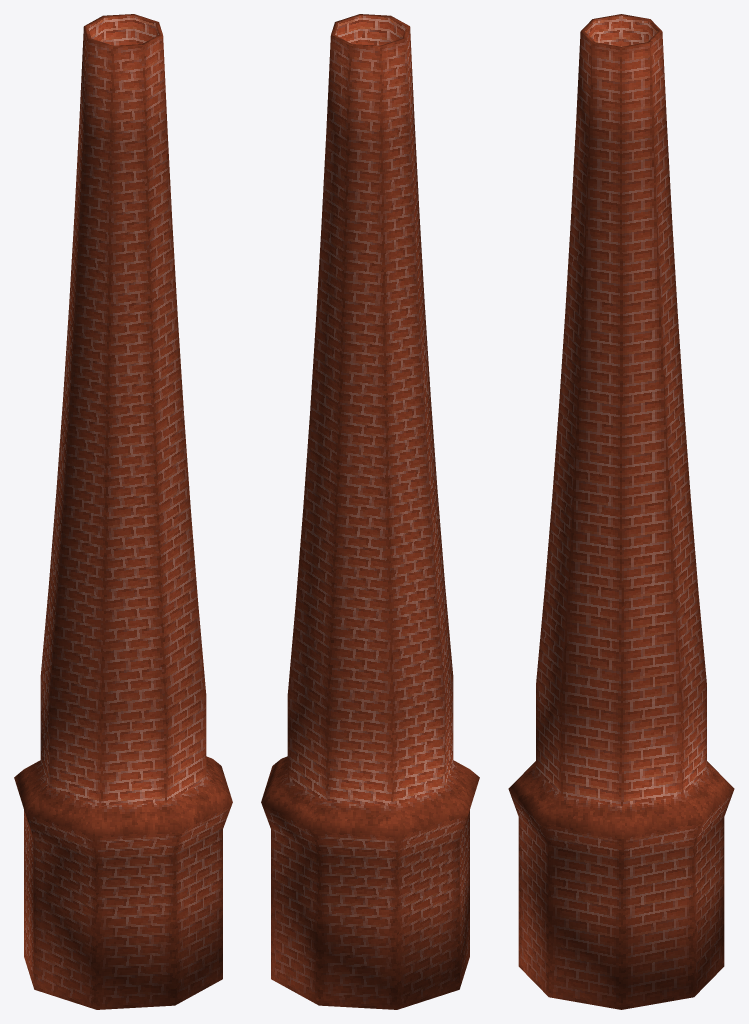
The model's file is chimney.gltf.
3 views of the same model, side by side, from view 1: azimuth 30°, elevation 25°; view 2: azimuth 150°, elevation 25°; view 3: azimuth 270°, elevation 25° (orthographic).
Parts seen in each view (by area): view 1: Circle; view 2: Circle; view 3: Circle.
Part boxes in pixels (x1,y1,x2,y2): Circle: [14, 14, 232, 1009]; Circle: [261, 14, 479, 1009]; Circle: [508, 14, 734, 1009].
Bounding box in the file's own units: 2.19 × 10 × 2.19.
1 material, 1 textured.
